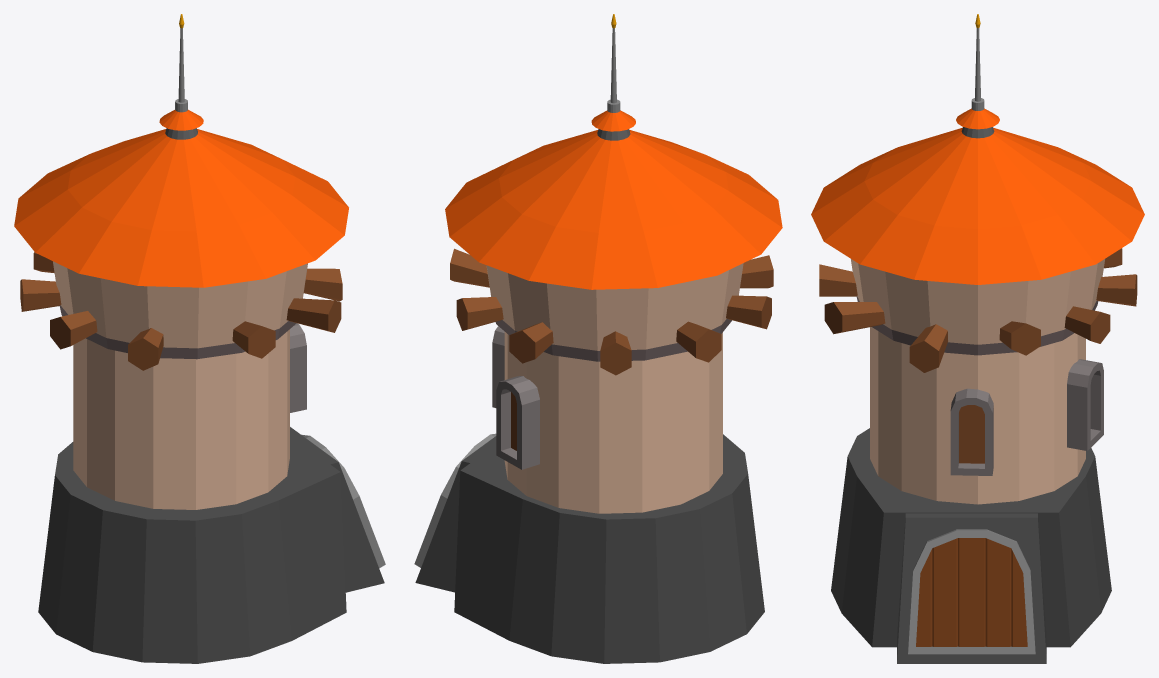
File: Tower.fbx
3 renders of one model, left to right at view 1: azimuth 30°, elevation 25°; view 2: azimuth 150°, elevation 25°; view 3: azimuth 270°, elevation 25°, orthographic.
Parts seen in each view (by area): view 1: Tower; view 2: Tower; view 3: Tower.
Boxes of the visible parts, x1=… form: Tower: x1=14, y1=14, x2=385, y2=663; Tower: x1=414, y1=14, x2=782, y2=663; Tower: x1=811, y1=14, x2=1144, y2=663.
Bounding box in the file's own units: 12.17 × 21.63 × 11.3.
